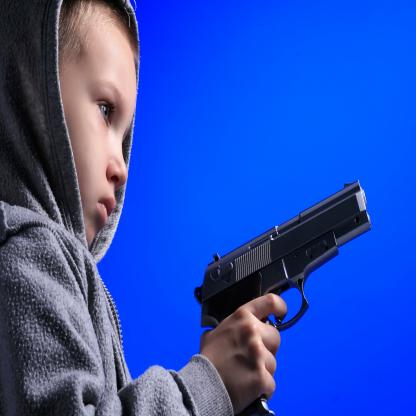pistol: (194, 177, 372, 416)
